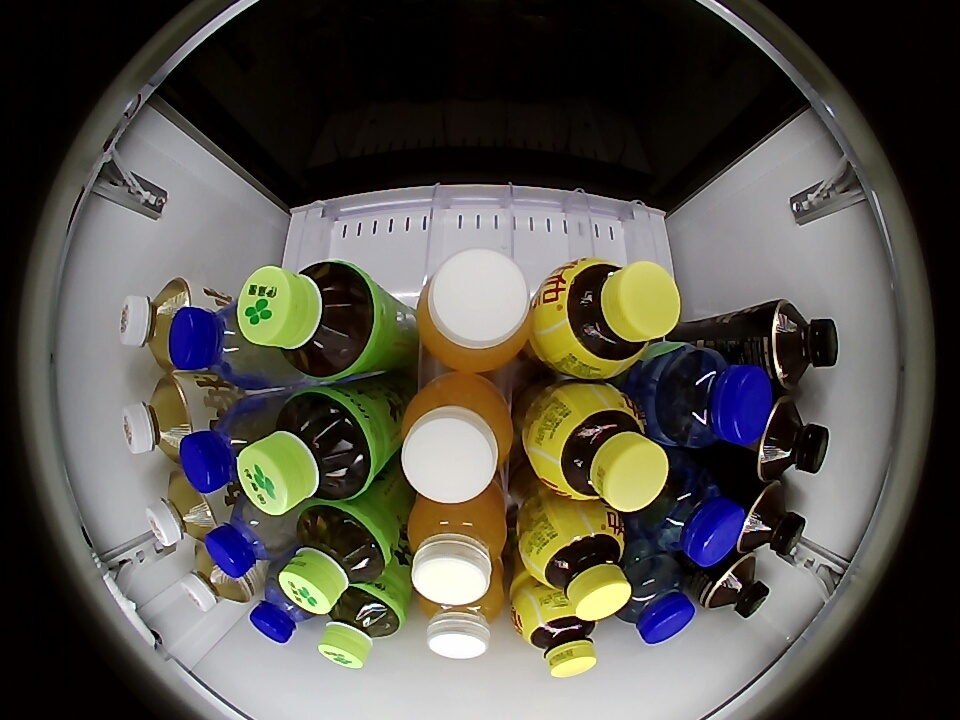aerbeisi: (170, 301, 277, 387), (180, 401, 273, 495), (205, 496, 296, 578), (250, 568, 320, 645)
maidong: (652, 346, 772, 448), (634, 458, 746, 566), (615, 553, 696, 645)
rancha-1: (755, 398, 830, 481), (769, 301, 840, 388), (735, 482, 807, 558), (700, 553, 771, 619)
rancha-2: (119, 277, 194, 371), (122, 373, 199, 459), (146, 470, 224, 547), (180, 543, 256, 612)
weic: (399, 375, 513, 503), (417, 248, 533, 372), (405, 488, 509, 607), (419, 580, 505, 659)
weitaningmeng-bottle: (529, 384, 669, 513), (536, 257, 680, 379), (523, 507, 632, 622), (515, 596, 598, 678)
yitengyuan: (237, 387, 378, 515), (237, 260, 380, 382), (280, 502, 392, 613), (319, 585, 405, 670)
